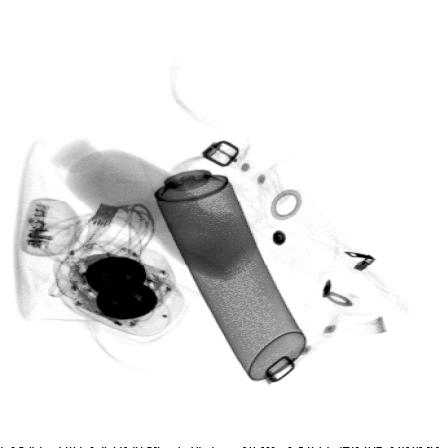Sprayer: (138, 135, 309, 383)
